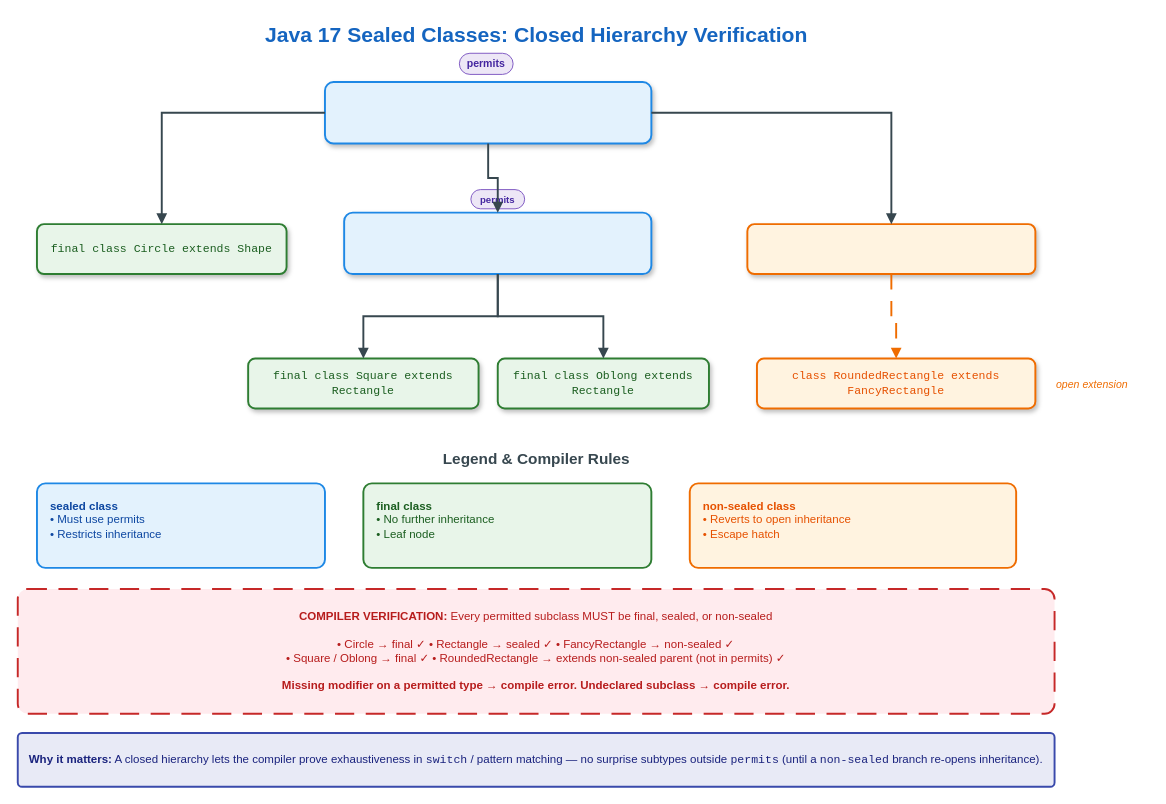
Image size: 1166x804. Some labels were removed from this diagram. The centre of each missing label's shape, as x and y in pixels:
"abstract sealed class Shape permits Circle, Rectangle, FancyRectangle" goes at [489,114].
"non-sealed class FancyRectangle extends Shape" goes at [892,250].
"sealed class Rectangle extends Shape permits Square, Oblong" goes at [498,244].
